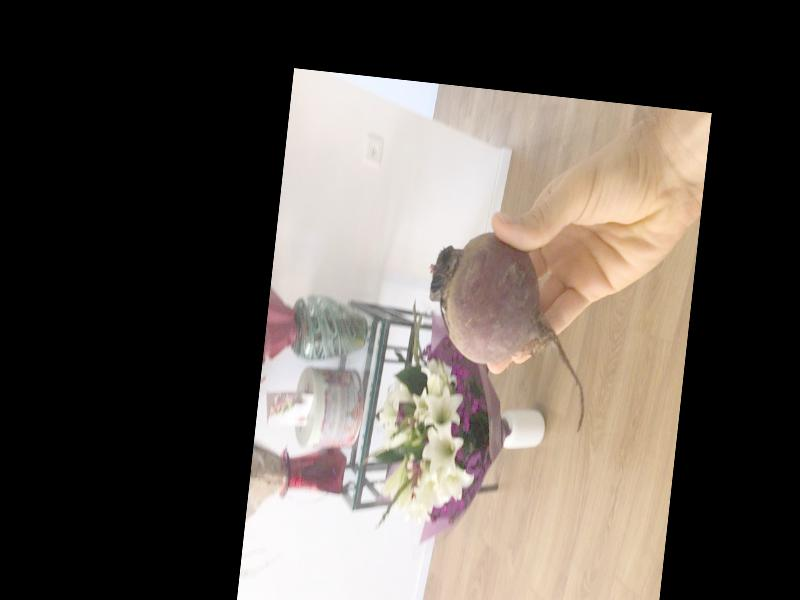Beet: (415, 227, 601, 436)
